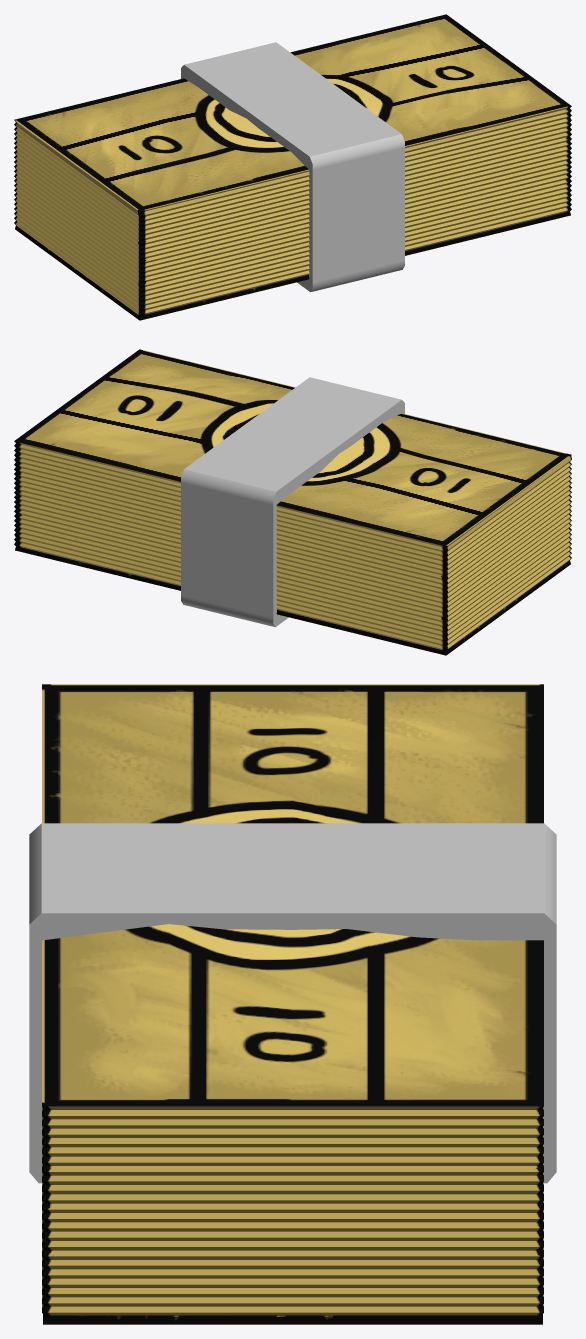
The model's file is money2.fbx.
3 views of the same model, one above another, from view 1: azimuth 30°, elevation 25°; view 2: azimuth 150°, elevation 25°; view 3: azimuth 270°, elevation 25° (orthographic). The views are drawn at different scales.
Parts seen in each view (by area): view 1: Box001, Plane001, Box002; view 2: Box001, Plane001, Box002; view 3: Plane001, Box001, Box002.
Part boxes in pixels (x1,y1,x2,y2): Box001: [14, 14, 571, 320]; Plane001: [16, 15, 569, 210]; Box002: [181, 42, 404, 292]; Box001: [14, 349, 571, 655]; Plane001: [16, 350, 569, 545]; Box002: [181, 377, 404, 627]; Plane001: [44, 685, 541, 1104]; Box001: [42, 684, 543, 1324]; Box002: [29, 823, 556, 1183].
Bounding box in the file's own units: 47.52 × 14.18 × 25.09.
